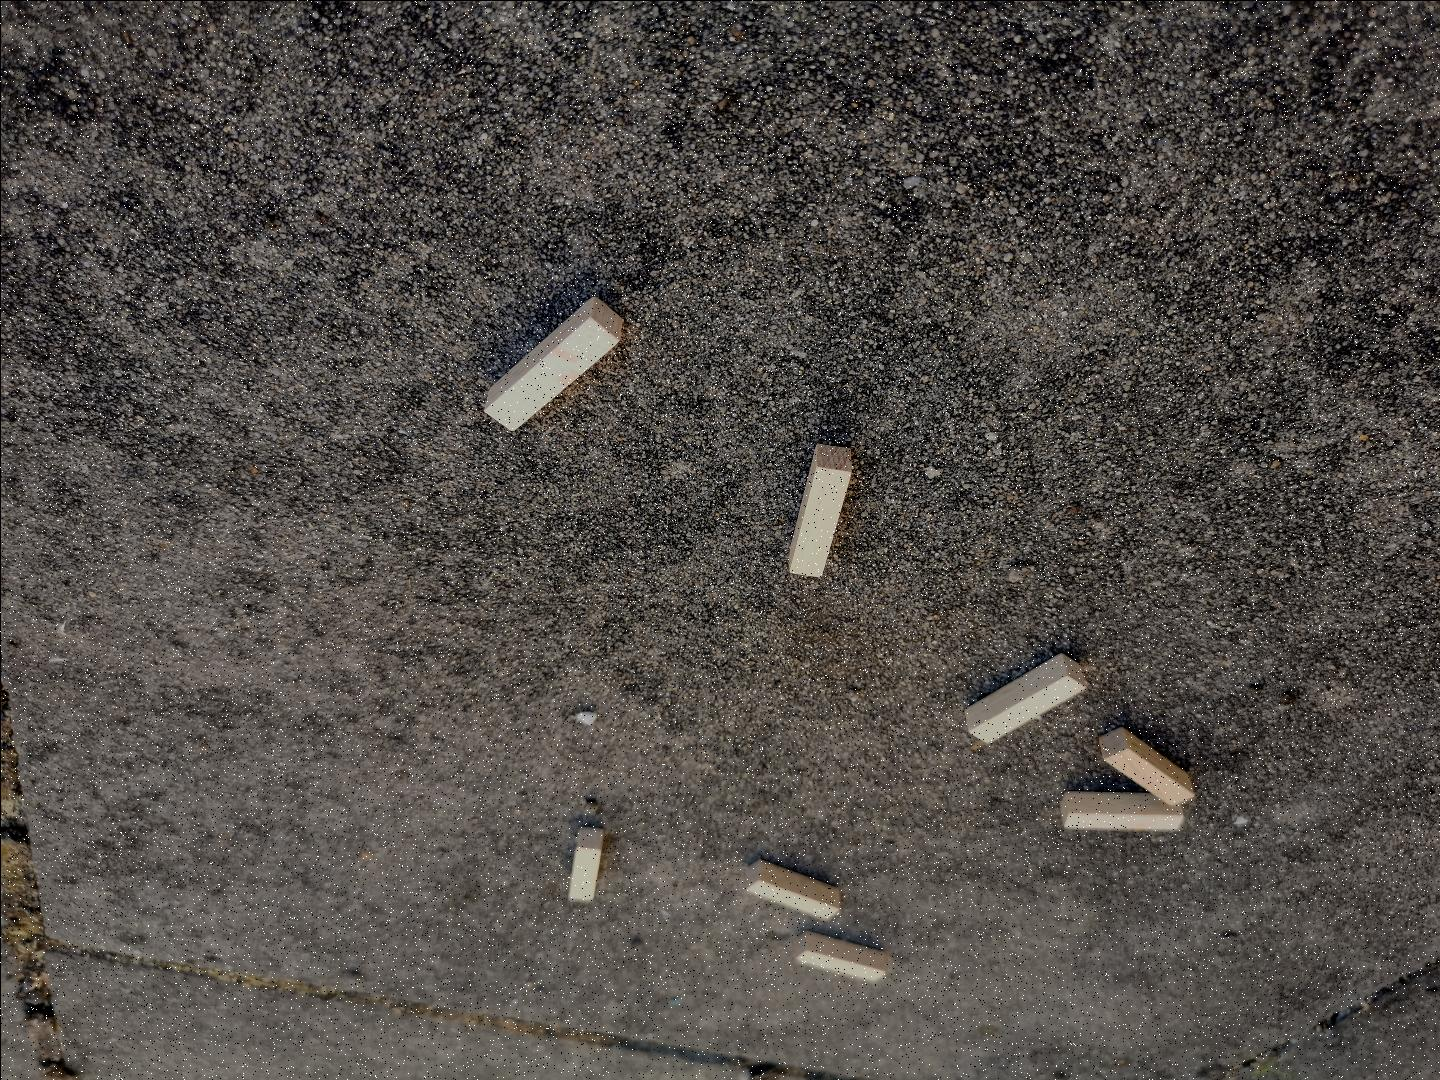jenga: (484, 295, 621, 430), (965, 652, 1085, 742), (788, 445, 849, 576), (1096, 726, 1193, 804), (745, 858, 841, 920), (793, 931, 889, 981), (1060, 791, 1184, 829), (568, 827, 602, 900)
